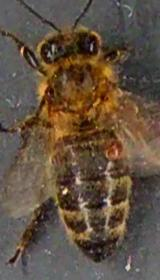varroa_mite: (98, 140, 130, 163)
